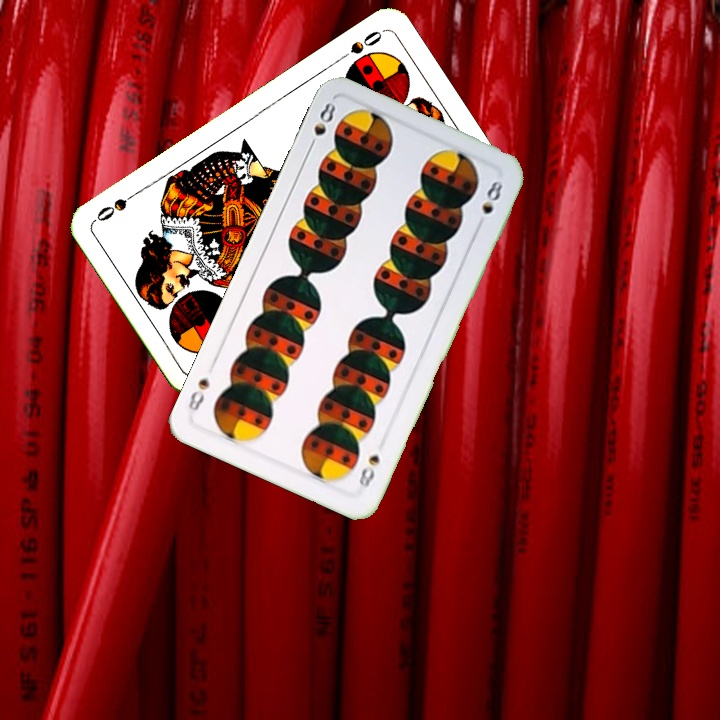S8: (304, 98, 339, 154), (353, 450, 383, 491)
SO: (334, 26, 386, 64)
